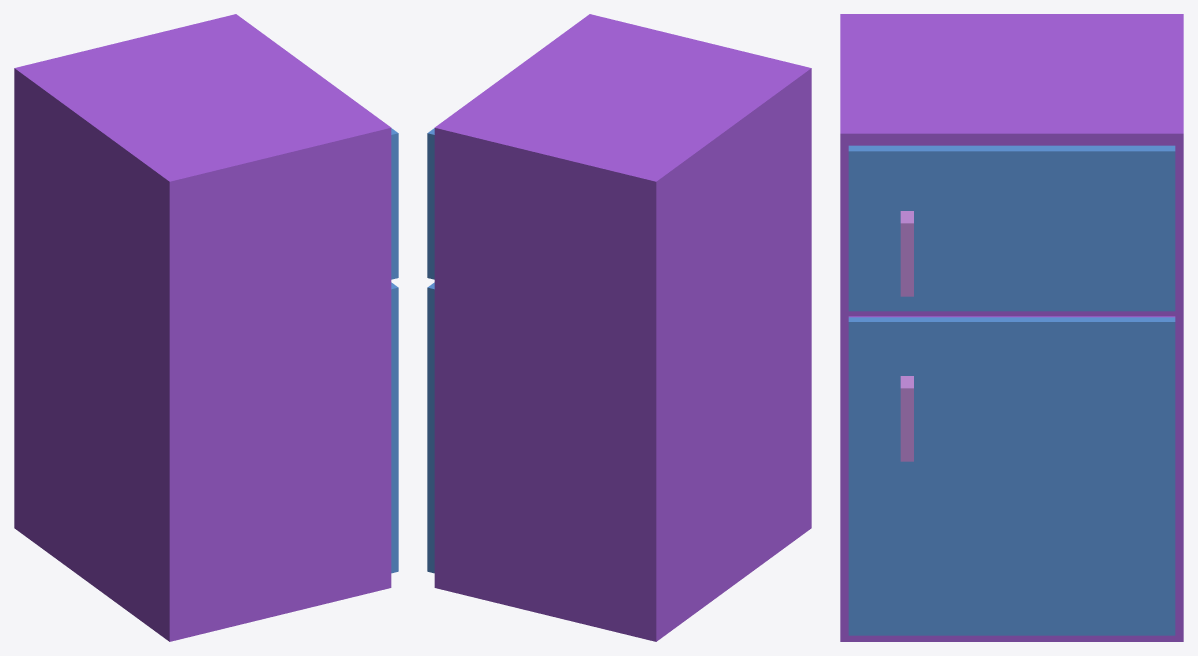
File: Fridge.fbx
3 renders of one model, left to right at view 1: azimuth 30°, elevation 25°; view 2: azimuth 150°, elevation 25°; view 3: azimuth 270°, elevation 25°, orthographic. The views are drawn at different scales.
Visible parts, largest first — view 1: Cube.001; view 2: Cube.001; view 3: Cube.001, Cube.002, Cube.003.
Boxes of the visible parts, x1,y1,x2,y2 form: Cube.001: (14, 14, 398, 641); Cube.001: (427, 14, 811, 641); Cube.001: (840, 14, 1183, 641); Cube.002: (900, 211, 913, 296); Cube.003: (900, 376, 913, 461).
Size of the model in its own units: 143 by 246 by 150.
